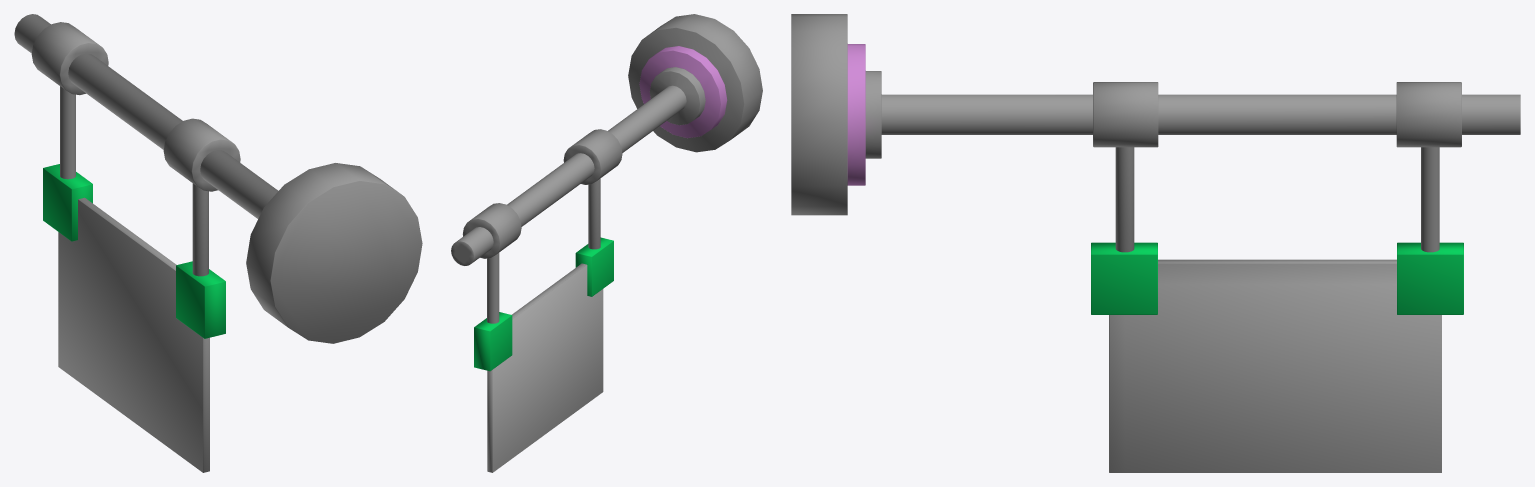
The model's file is SM_Signboard_04.fbx.
3 renders of one model, left to right at view 1: azimuth 30°, elevation 25°; view 2: azimuth 150°, elevation 25°; view 3: azimuth 270°, elevation 25°, orthographic. The views are drawn at different scales.
Visible parts, largest first — view 1: SM_Signboard_04; view 2: SM_Signboard_04; view 3: SM_Signboard_04.
Boxes of the visible parts, left/top/right/bottom form: SM_Signboard_04: left=14, top=14, right=422, bottom=472; SM_Signboard_04: left=451, top=14, right=762, bottom=472; SM_Signboard_04: left=791, top=14, right=1520, bottom=472.
Bounding box in the file's own units: 33.26 × 120 × 81.22.
Materials: 1 (1 with a texture image).
